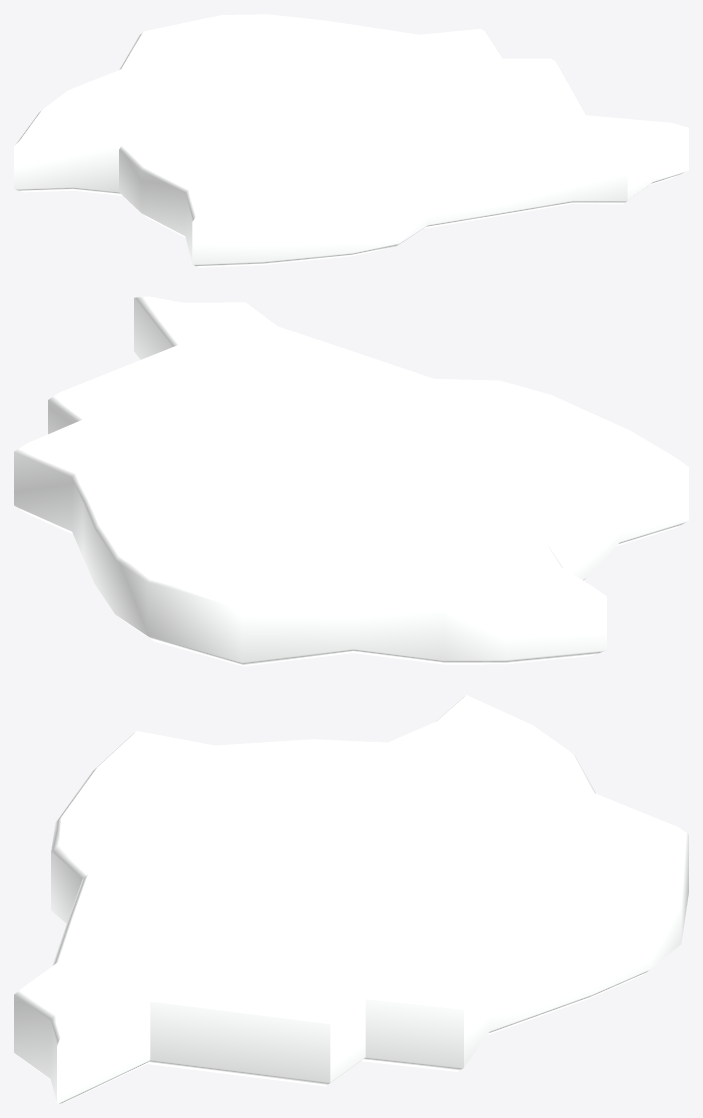
The model's file is ice_floe_medium_002.glb.
The picture shows the model from 3 angles, top to bottom: view 1: azimuth 30°, elevation 25°; view 2: azimuth 150°, elevation 25°; view 3: azimuth 270°, elevation 25°; orthographic projection. The views are drawn at different scales.
Visible parts, largest first — view 1: ice_floe_medium_002; view 2: ice_floe_medium_002; view 3: ice_floe_medium_002.
Part boxes in pixels (x1=…): ice_floe_medium_002: x1=14, y1=14, x2=688, y2=267; ice_floe_medium_002: x1=14, y1=296, x2=688, y2=666; ice_floe_medium_002: x1=14, y1=695, x2=688, y2=1103.
Bounding box in the file's own units: 8.85 × 0.8944 × 7.23.
Materials: 1 (1 with a texture image).
